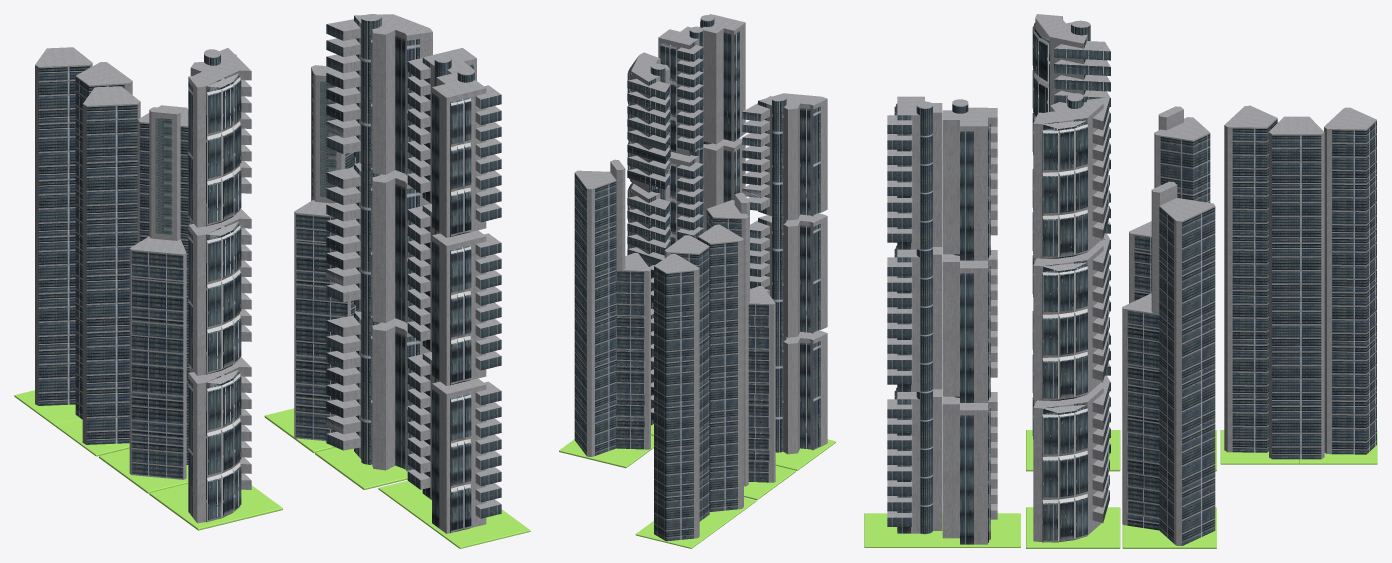
The model's file is high_rise_building_props.glb.
The picture shows the model from 3 angles, left to right: view 1: azimuth 30°, elevation 25°; view 2: azimuth 150°, elevation 25°; view 3: azimuth 270°, elevation 25°; orthographic projection. The views are drawn at different scales.
Visible parts, largest first — view 1: Cube.013, Cube.041, Cube.007, Cube.006, Cube.010, Cube.003, Cube.012, Cube.040, Cube.005, Cube.009, Plane.004, Plane.005 (+7 smaller); view 2: Cube.007, Cube.003, Cube.011, Cube.006, Cube.013, Cube.012, Cube.041, Cube.040, Cube.010, Cube.005, Cube.009, Plane.003 (+4 smaller); view 3: Cube.013, Cube.040, Cube.041, Cube.011, Cube.005, Cube.003, Cube.006, Cube.012, Cube.007, Cube.009, Cube.010, Plane.005 (+6 smaller).
Part boxes in pixels (left/top/right/bottom): Cube.013: left=326, top=14, right=432, bottom=471; Cube.041: left=432, top=67, right=501, bottom=533; Cube.007: left=188, top=48, right=251, bottom=523; Cube.006: left=82, top=86, right=140, bottom=444; Cube.010: left=129, top=107, right=186, bottom=479; Cube.003: left=35, top=47, right=92, bottom=405; Cube.012: left=294, top=70, right=350, bottom=441; Cube.040: left=407, top=48, right=476, bottom=499; Cube.005: left=75, top=62, right=132, bottom=419; Cube.009: left=137, top=105, right=190, bottom=464; Plane.004: left=149, top=483, right=282, bottom=530; Plane.005: left=315, top=447, right=407, bottom=489; Cube.007: left=742, top=93, right=827, bottom=454; Cube.003: left=654, top=254, right=699, bottom=541; Cube.011: left=574, top=170, right=616, bottom=456; Cube.006: left=698, top=224, right=743, bottom=511; Cube.013: left=627, top=52, right=670, bottom=425; Cube.012: left=610, top=159, right=650, bottom=449; Cube.041: left=700, top=14, right=745, bottom=232; Cube.040: left=658, top=26, right=703, bottom=245; Cube.010: left=734, top=192, right=775, bottom=482; Cube.005: left=664, top=235, right=709, bottom=521; Cube.009: left=706, top=200, right=748, bottom=486; Plane.003: left=559, top=435, right=653, bottom=468; Cube.013: left=1033, top=93, right=1109, bottom=542; Cube.040: left=942, top=99, right=997, bottom=544; Cube.041: left=887, top=96, right=942, bottom=534; Cube.011: left=1159, top=198, right=1215, bottom=545; Cube.005: left=1269, top=116, right=1324, bottom=459; Cube.003: left=1324, top=107, right=1376, bottom=454; Cube.006: left=1224, top=105, right=1277, bottom=452; Cube.012: left=1122, top=181, right=1177, bottom=530; Cube.007: left=1032, top=14, right=1110, bottom=453; Cube.009: left=1154, top=117, right=1210, bottom=202; Cube.010: left=1129, top=106, right=1183, bottom=303; Plane.005: left=1026, top=507, right=1120, bottom=548.
Bounding box in the file's own units: 64.42 × 109 × 119.
Materials: 6 (4 with a texture image).
